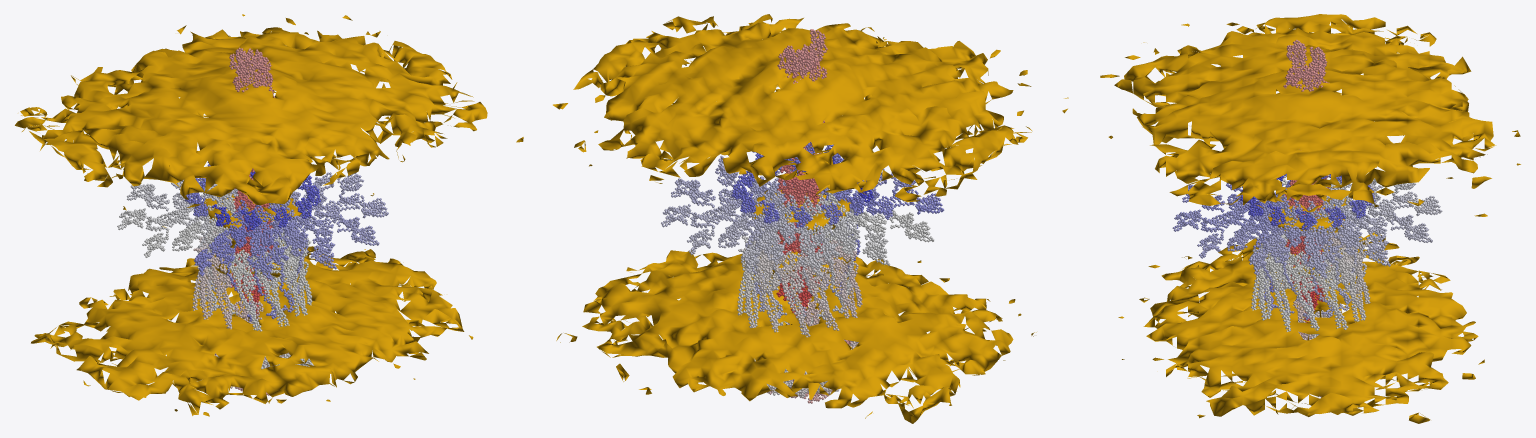
The model's file is full.gltf.
3 renders of one model, left to right at view 1: azimuth 30°, elevation 25°; view 2: azimuth 150°, elevation 25°; view 3: azimuth 270°, elevation 25°, orthographic. The views are drawn at different scales.
Visible parts, largest first — view 1: vmd_mol3_rep0, vmd_mol2_rep0; view 2: vmd_mol3_rep0, vmd_mol2_rep0; view 3: vmd_mol3_rep0, vmd_mol2_rep0.
Boxes of the visible parts, box(x1,y1,x2,y2) form: vmd_mol3_rep0: box(15, 14, 487, 416); vmd_mol2_rep0: box(117, 47, 388, 395); vmd_mol3_rep0: box(516, 14, 1068, 423); vmd_mol2_rep0: box(661, 29, 944, 403); vmd_mol3_rep0: box(1100, 14, 1520, 423); vmd_mol2_rep0: box(1172, 39, 1442, 397).
Size of the model in its own units: 2.51 by 2.22 by 2.47.
